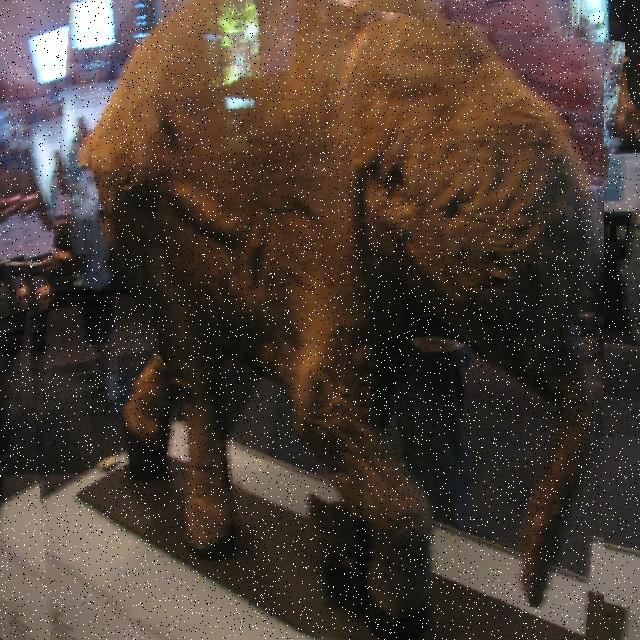elephant: (7, 0, 604, 640)
